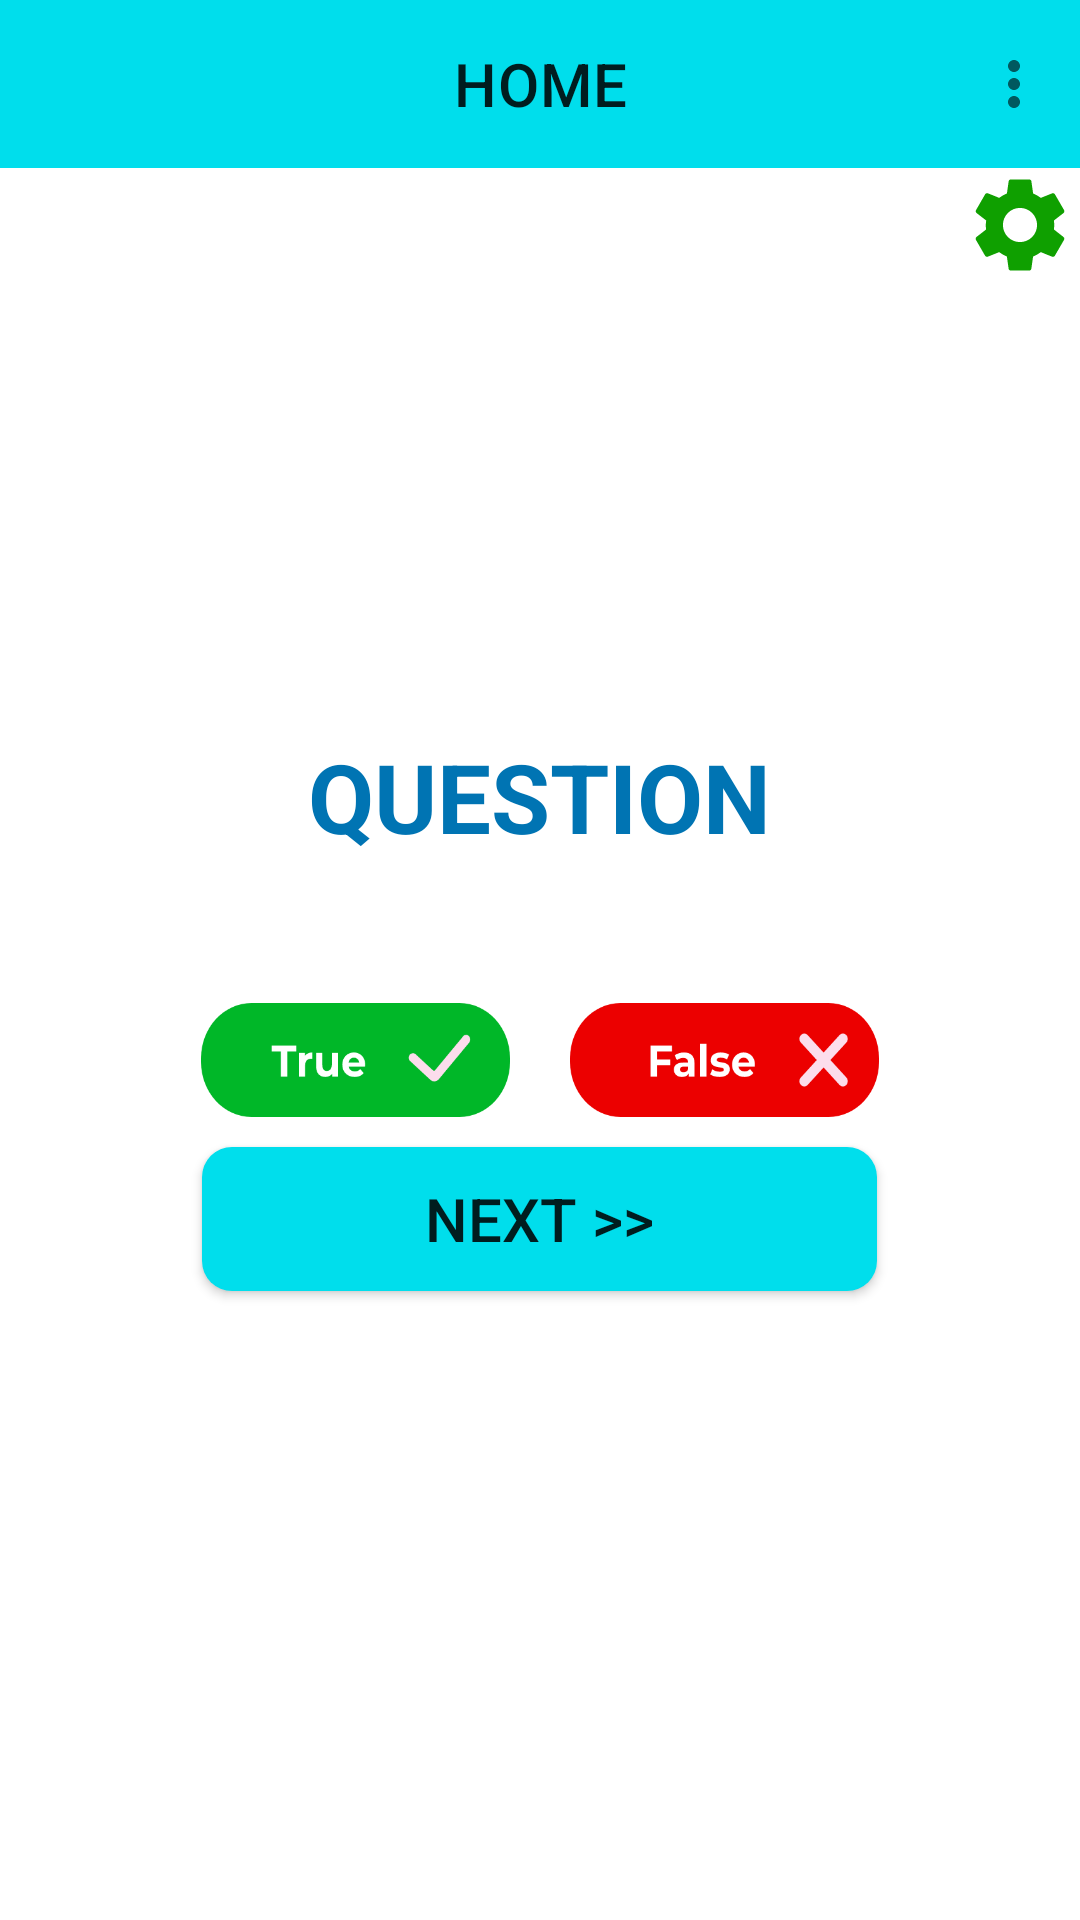

Screen size 1080×1920. Icon name, then its center in pixels as (x,y):
settings: (1020,225)
